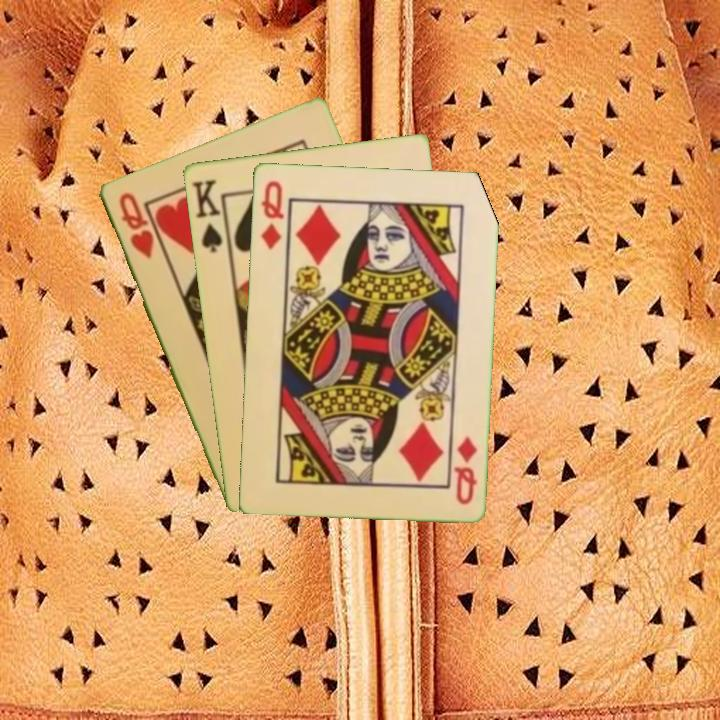Ks: (188, 176, 231, 255)
Qd: (450, 432, 480, 507), (257, 177, 286, 252)
Qh: (114, 188, 157, 262)
